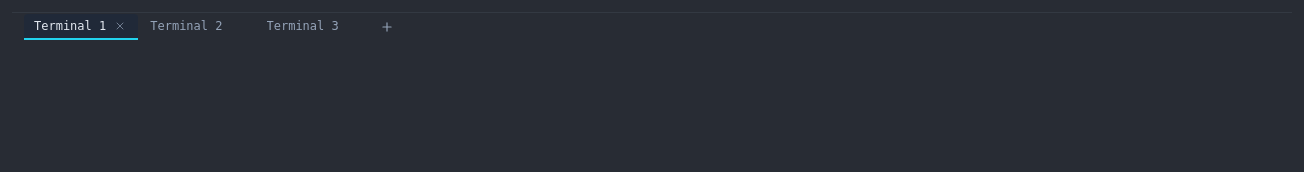
Test: TerminalTabBar › shows context menu on right-click on a tab
Right-click the tab with class "terminal-tab" showing "Terminal 2" at (197, 27), box [140,14,255,40]
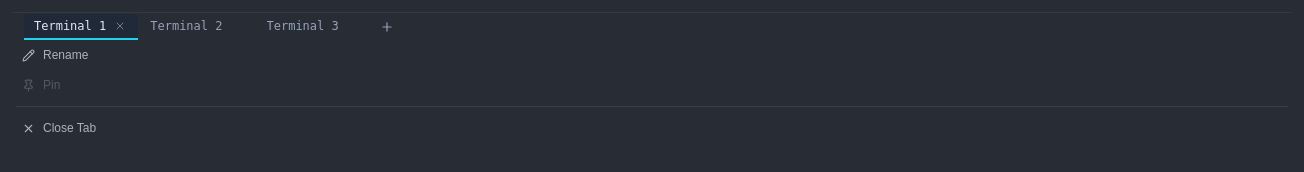
Expected: the element with test id "context-menu" is shown, [12,40,1292,143]
